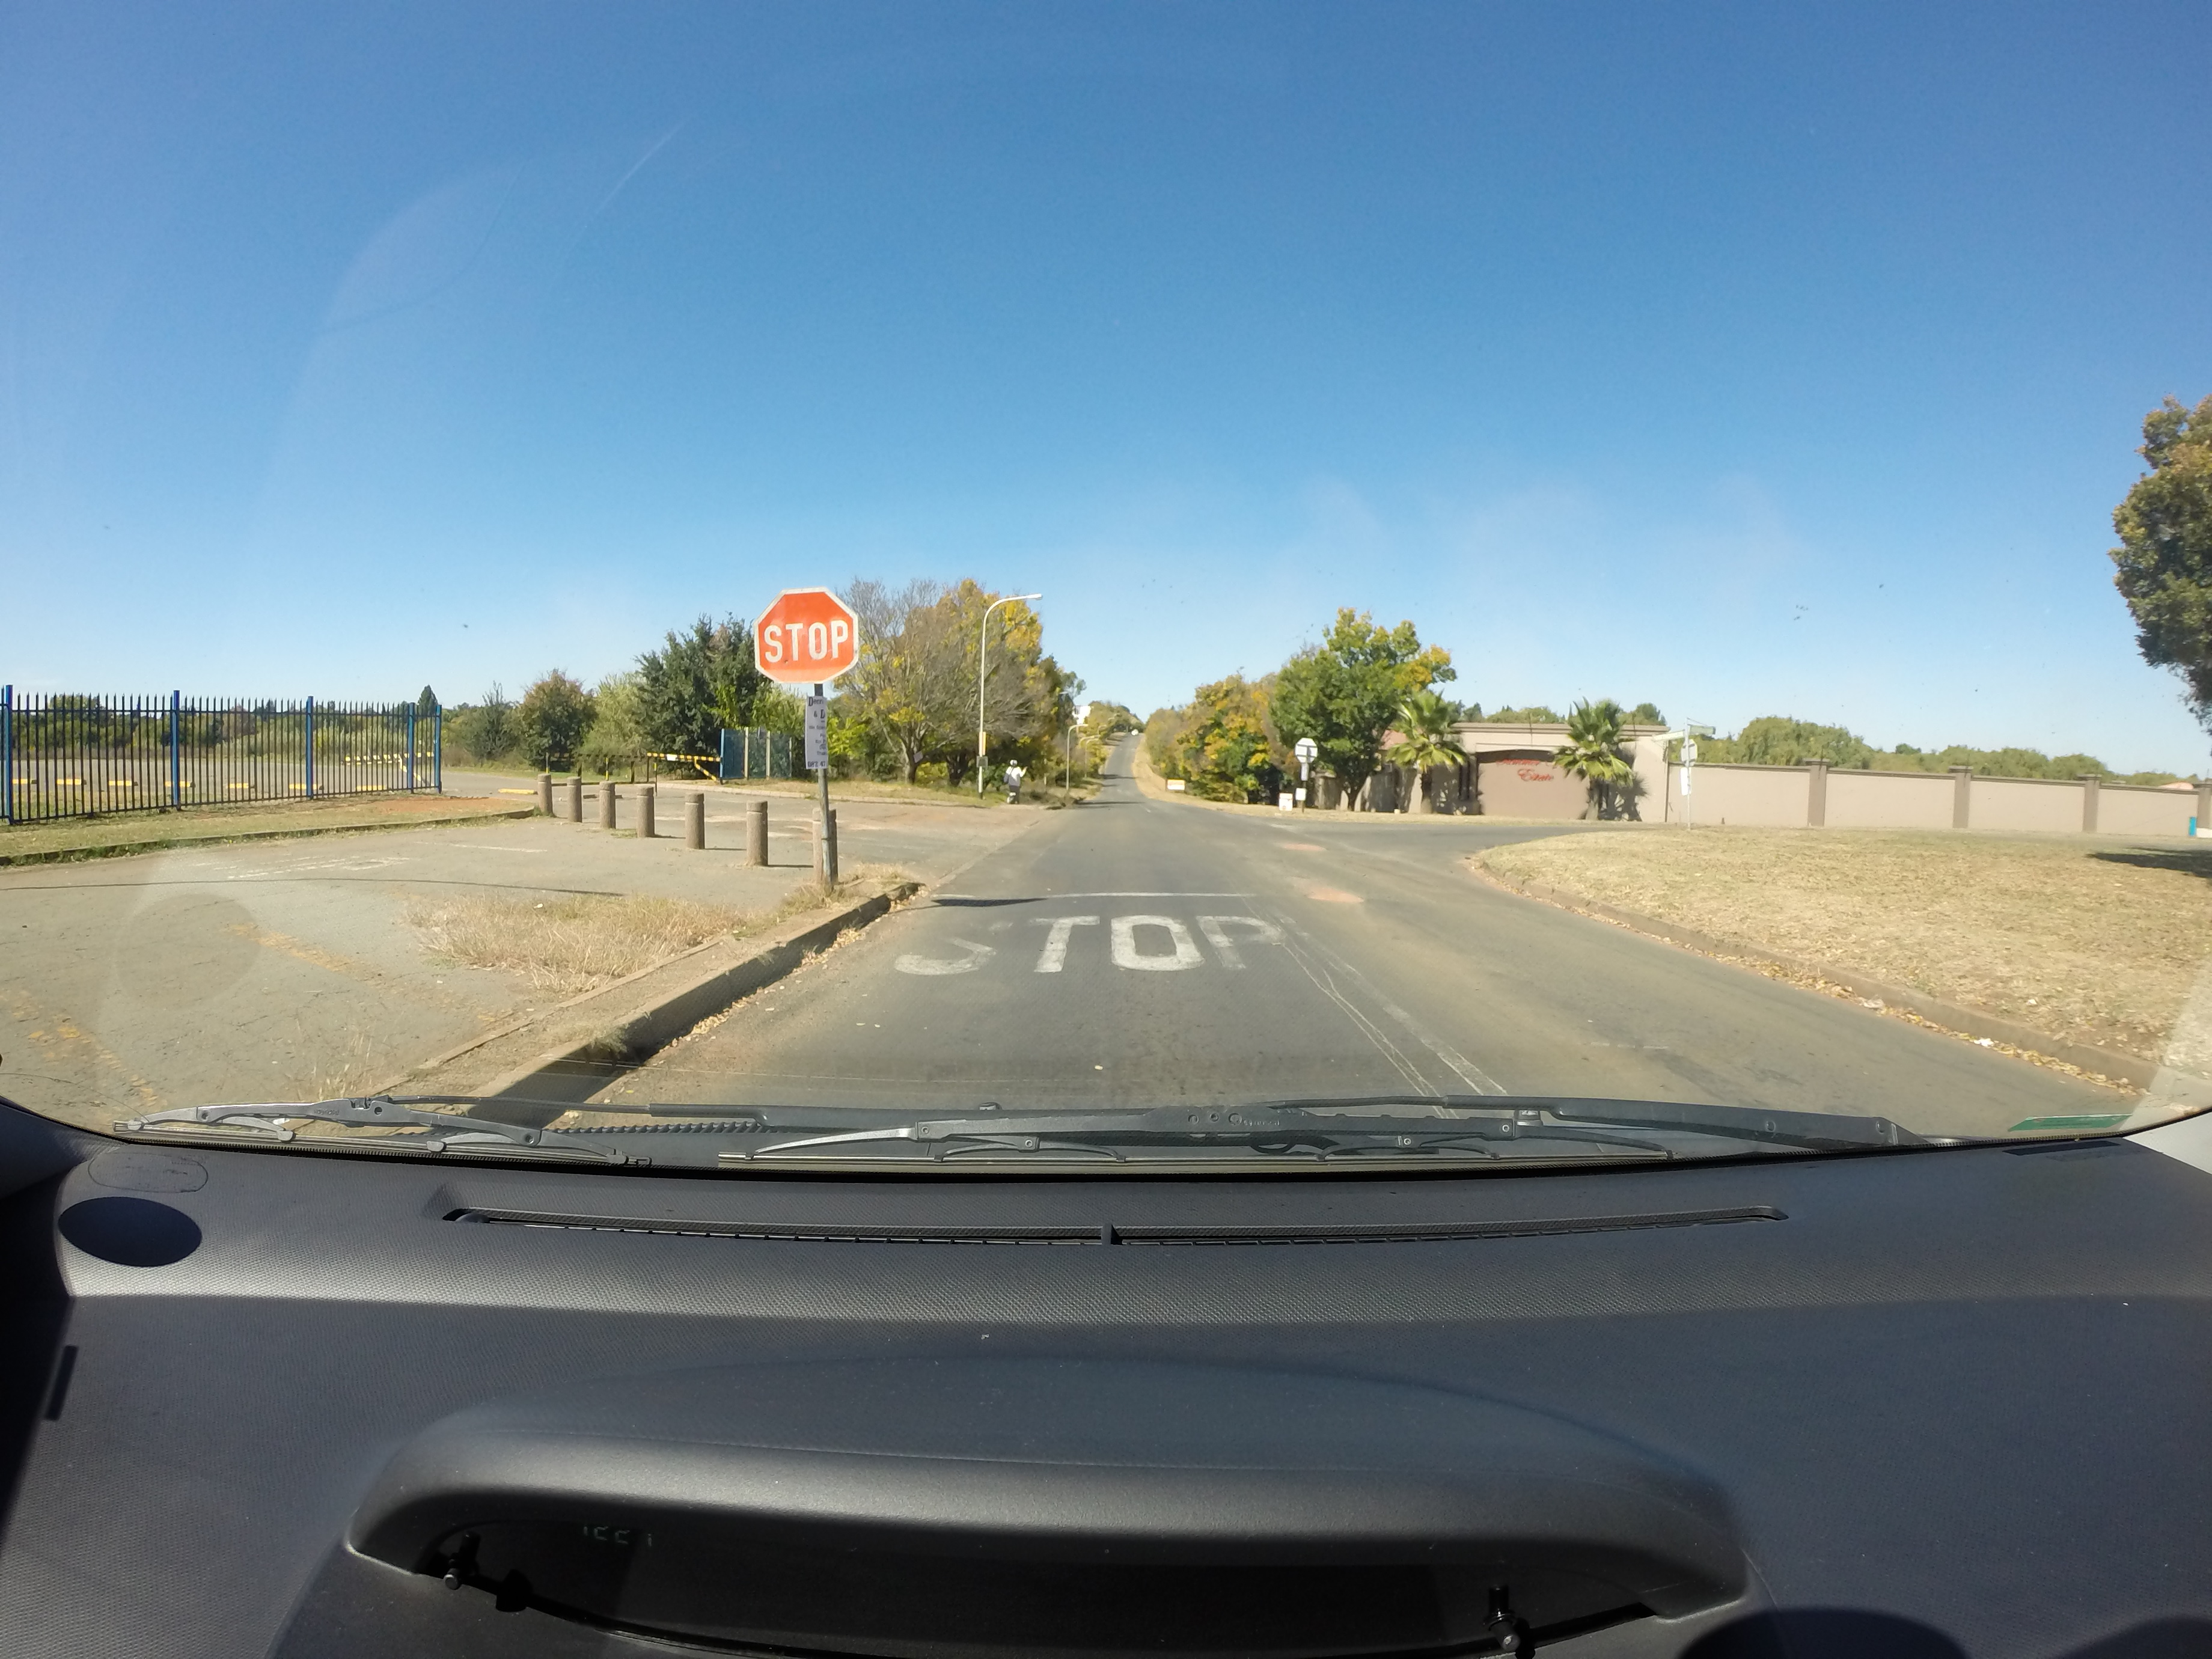pothole: (1305, 885, 1374, 908)
